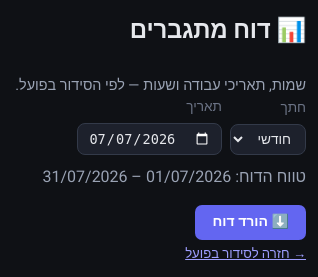
Test: ReinforcementsReportPage › shows the resolved range and links back to the actual board
Select "יומי" in the dropdown labelled "חתך" at (268, 139), box [230,124,306,155]
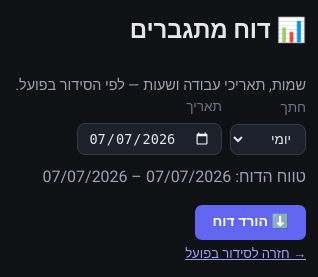
Type "2026-07-15" into the date field labelled "תאריך" at (150, 139), box [77,123,222,155]
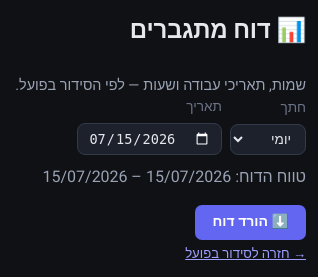
Result: the text "טווח הדוח: 15/07/2026 – 15/07/2026" is shown at [42,165,306,189]
